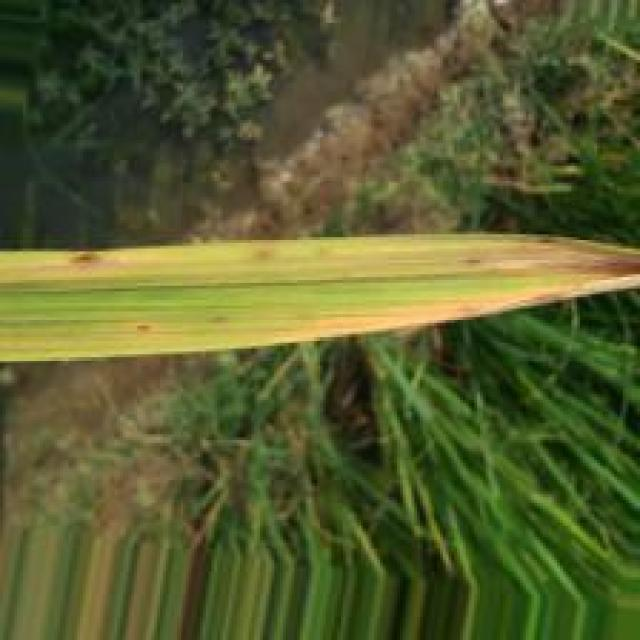Bacterial_Leaf_Blight: (0, 231, 640, 363)
